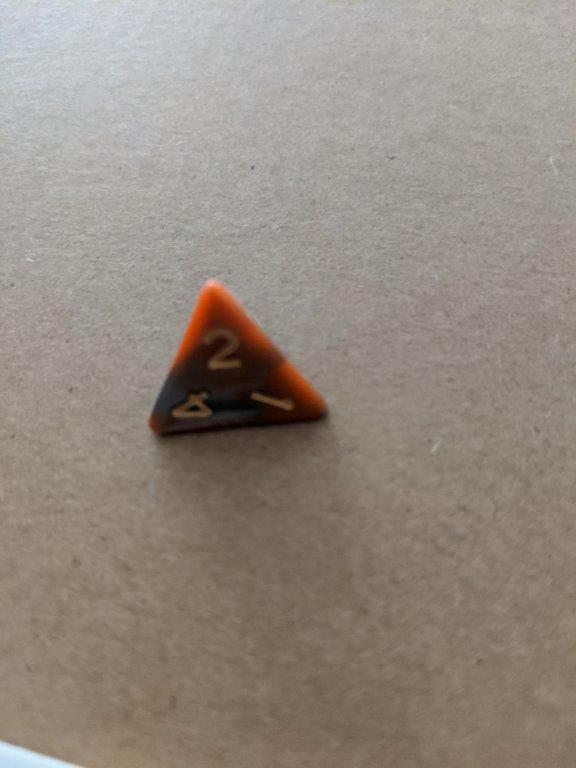d4-2: (144, 274, 330, 451)
